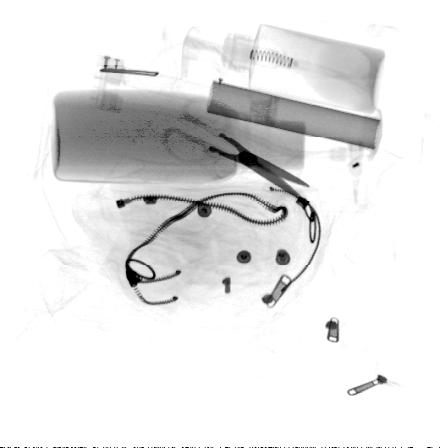Scissors: (160, 95, 312, 200)
